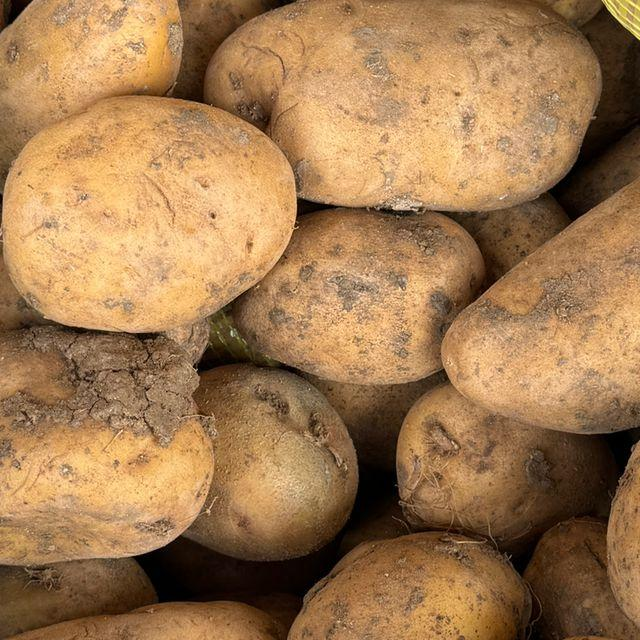potato: (0, 55, 315, 352)
